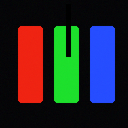4 line_v: (66, 4, 70, 56)
